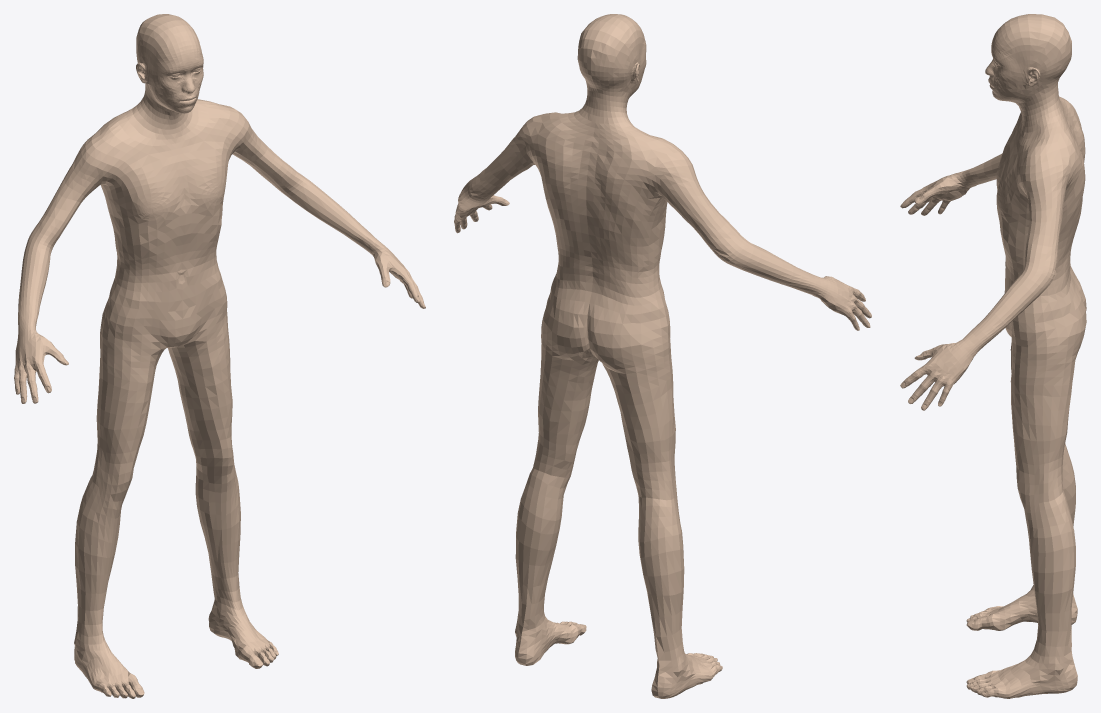
Rendered from male-adult-lean-toned.glb.
The picture shows the model from 3 angles, left to right: view 1: azimuth 30°, elevation 25°; view 2: azimuth 150°, elevation 25°; view 3: azimuth 270°, elevation 25°; orthographic projection.
Visible parts, largest first — view 1: world; view 2: world; view 3: world.
Boxes of the visible parts, <box> form: world: <box>14,14,425,698</box>; world: <box>454,14,871,698</box>; world: <box>900,14,1086,698</box>.
Bounding box in the file's own units: 1.28 × 1.95 × 0.5124.
